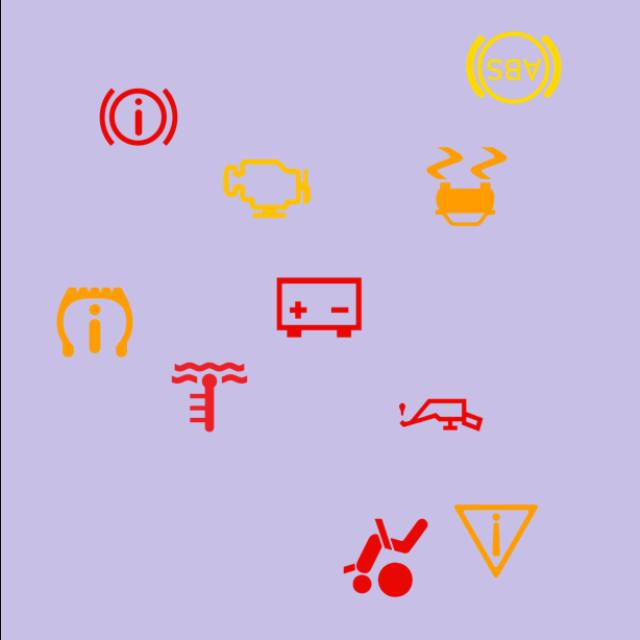Anti Lock Braking System: (461, 16, 565, 120)
Braking System Issue: (86, 64, 190, 168)
Charging System Issue: (266, 256, 370, 360)
Check Engine: (214, 137, 318, 240)
Electronic Stability Problem -ESP-: (414, 134, 518, 238)
Engine Overheating Warning Light: (157, 345, 260, 449)
Low Engine Oil Warning Light: (388, 363, 492, 467)
Low Tire Pressure Warning Light: (42, 270, 146, 374)
Master warning light: (443, 489, 547, 593)
SRS-Airbag: (332, 506, 437, 610)
